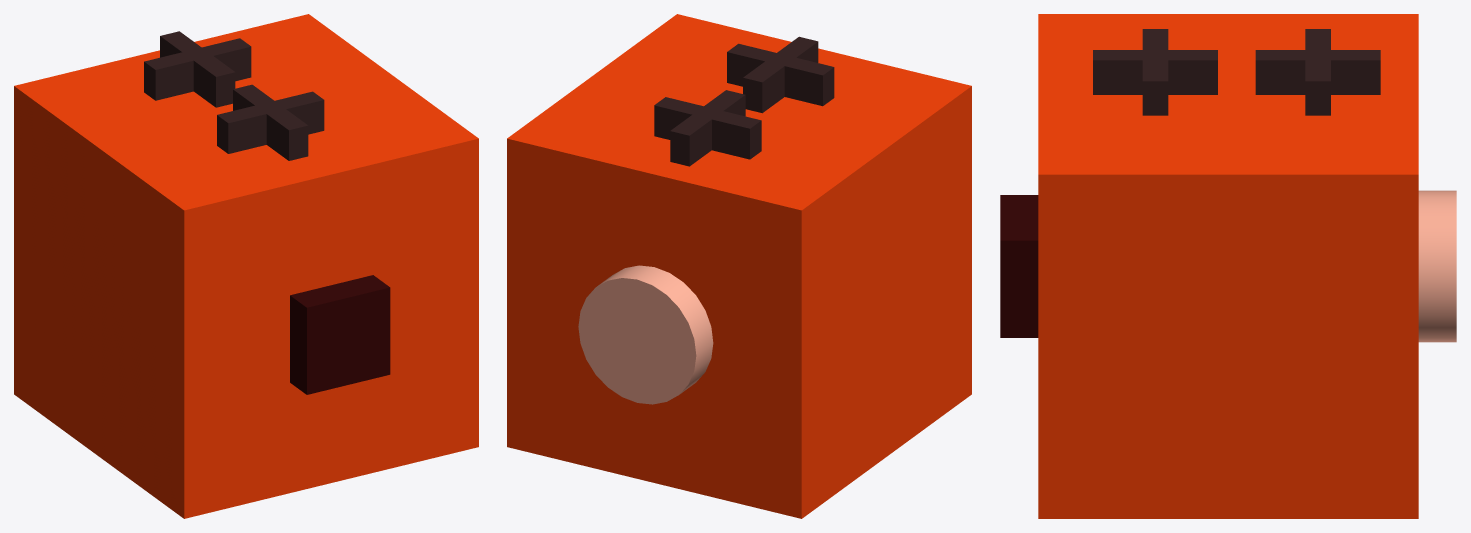
File: Increment_Operator.dae
3 views of the same model, side by side, from view 1: azimuth 30°, elevation 25°; view 2: azimuth 150°, elevation 25°; view 3: azimuth 270°, elevation 25° (orthographic). The views are drawn at different scales.
Parts seen in each view (by area): view 1: SketchUp (×2), instance_0; view 2: SketchUp (×2), instance_0; view 3: SketchUp (×3), instance_0.
Part boxes in pixels (bbox=[...]): SketchUp (×2): bbox=[14, 14, 478, 518]; instance_0: bbox=[144, 31, 324, 160]; SketchUp (×2): bbox=[507, 14, 971, 518]; instance_0: bbox=[654, 36, 834, 166]; SketchUp (×3): bbox=[1000, 14, 1456, 518]; instance_0: bbox=[1093, 29, 1380, 115].
Size of the model in its own units: 39.37 by 47.24 by 43.31.
